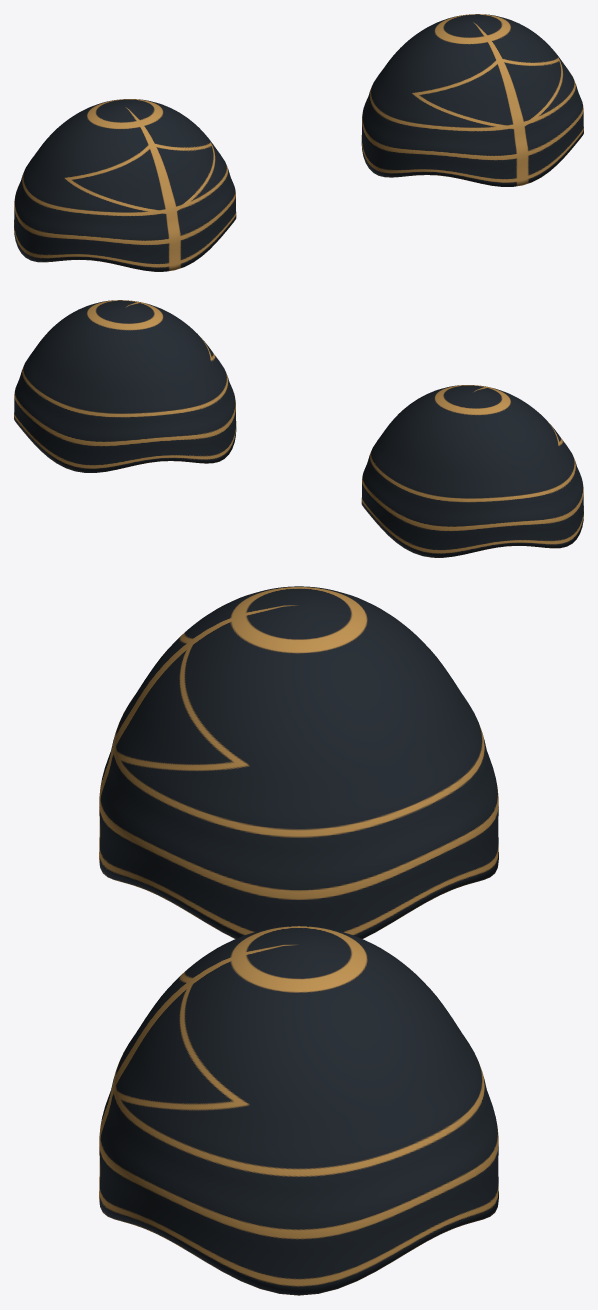
Rendered from SM_ObsidianSovereign_Shoulders_preview_2K.glb.
3 renders of one model, top to bottom at view 1: azimuth 30°, elevation 25°; view 2: azimuth 150°, elevation 25°; view 3: azimuth 270°, elevation 25°, orthographic. The views are drawn at different scales.
Parts seen in each view (by area): view 1: SM_ObsidianSovereign_Shoulders_L, SM_ObsidianSovereign_Shoulders_R; view 2: SM_ObsidianSovereign_Shoulders_L, SM_ObsidianSovereign_Shoulders_R; view 3: SM_ObsidianSovereign_Shoulders_L, SM_ObsidianSovereign_Shoulders_R.
Part boxes in pixels (<box>): SM_ObsidianSovereign_Shoulders_L: <box>361,14,583,186</box>; SM_ObsidianSovereign_Shoulders_R: <box>14,99,236,271</box>; SM_ObsidianSovereign_Shoulders_L: <box>14,300,236,472</box>; SM_ObsidianSovereign_Shoulders_R: <box>361,385,583,557</box>; SM_ObsidianSovereign_Shoulders_L: <box>99,925,498,1295</box>; SM_ObsidianSovereign_Shoulders_R: <box>99,586,498,938</box>.
Size of the model in its own units: 0.77 by 0.171 by 0.244.
Materials: 1 (1 with a texture image).
